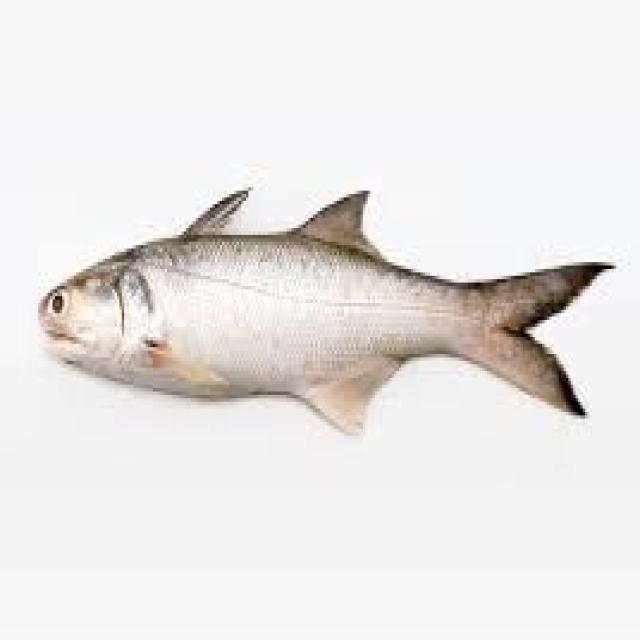Fourfinger-Threadfin: (29, 158, 639, 494)
